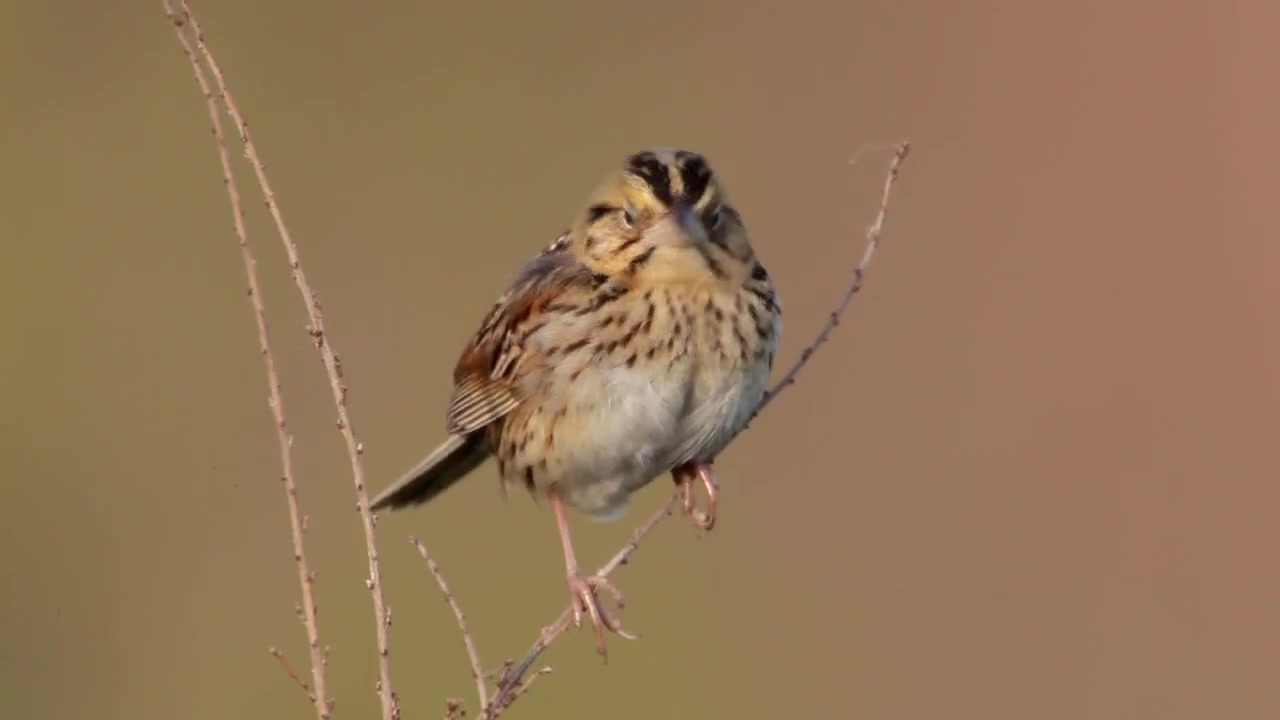bird: (366, 148, 781, 664)
